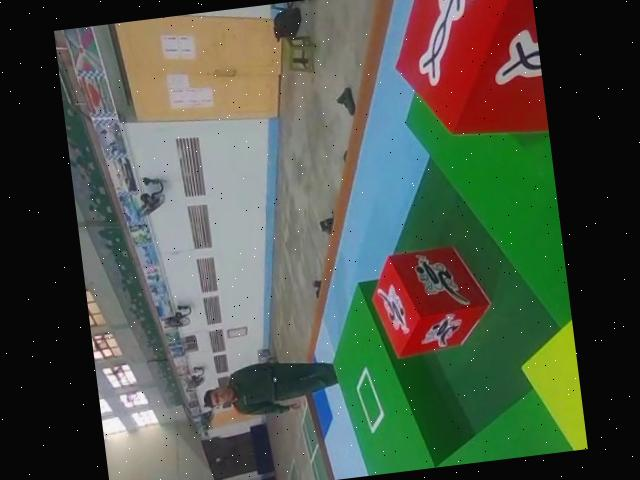R1: (366, 238, 495, 363)
R2 Real: (383, 0, 549, 155)
